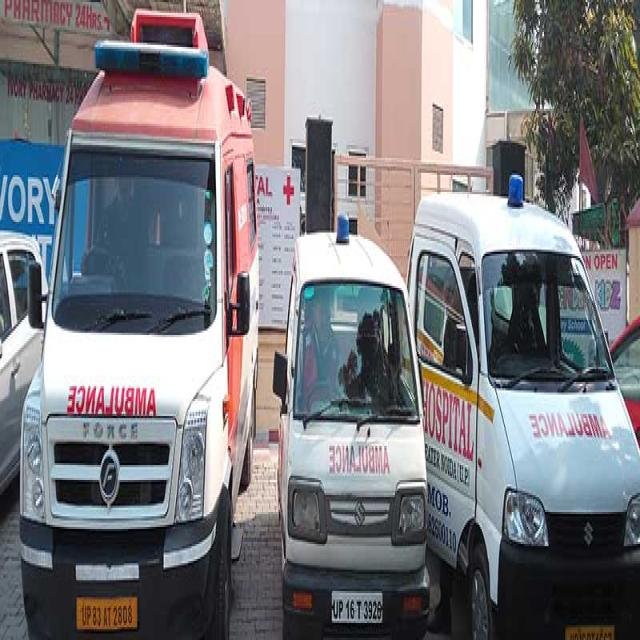ambulance: (28, 0, 250, 640), (412, 172, 639, 640), (282, 204, 433, 640)
